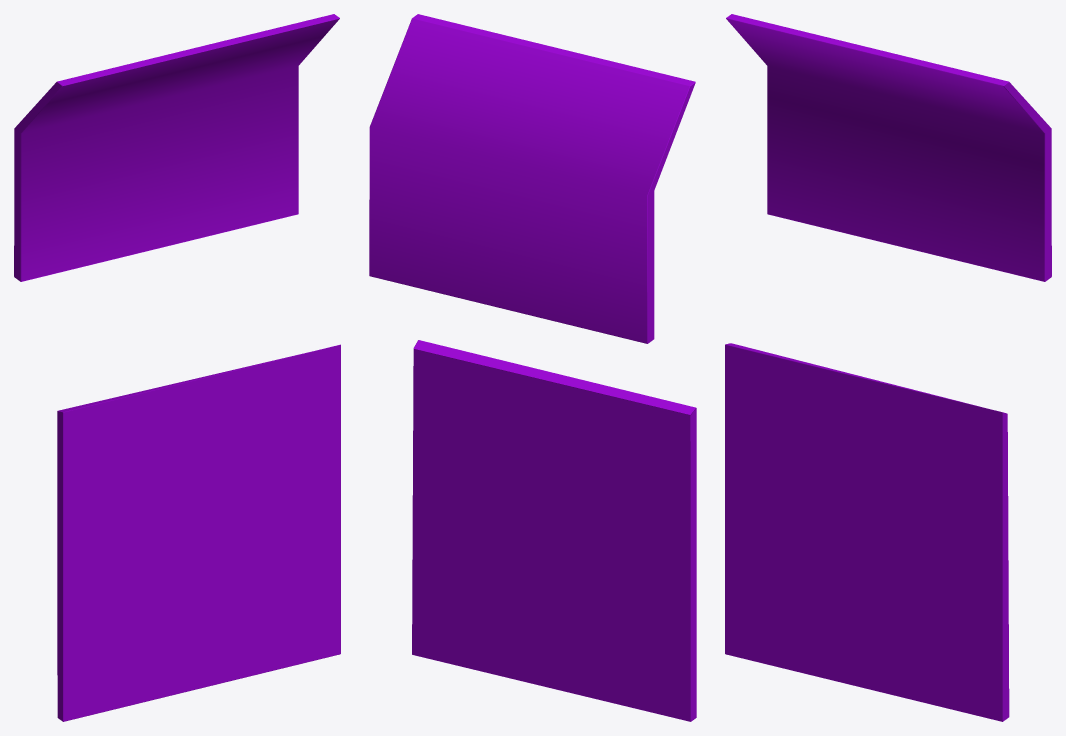
File: Cabinet_In_02.fbx
The picture shows the model from 3 angles, left to right: view 1: azimuth 30°, elevation 25°; view 2: azimuth 150°, elevation 25°; view 3: azimuth 330°, elevation 25°; orthographic projection.
Parts seen in each view (by area): view 1: Cabinet_In_02; view 2: Cabinet_In_02; view 3: Cabinet_In_02.
Boxes of the visible parts, x1,y1,x2,y2 form: Cabinet_In_02: (14, 14, 340, 721); Cabinet_In_02: (369, 14, 696, 721); Cabinet_In_02: (725, 14, 1051, 721).
Size of the model in its own units: 95.71 by 209 by 29.33.
